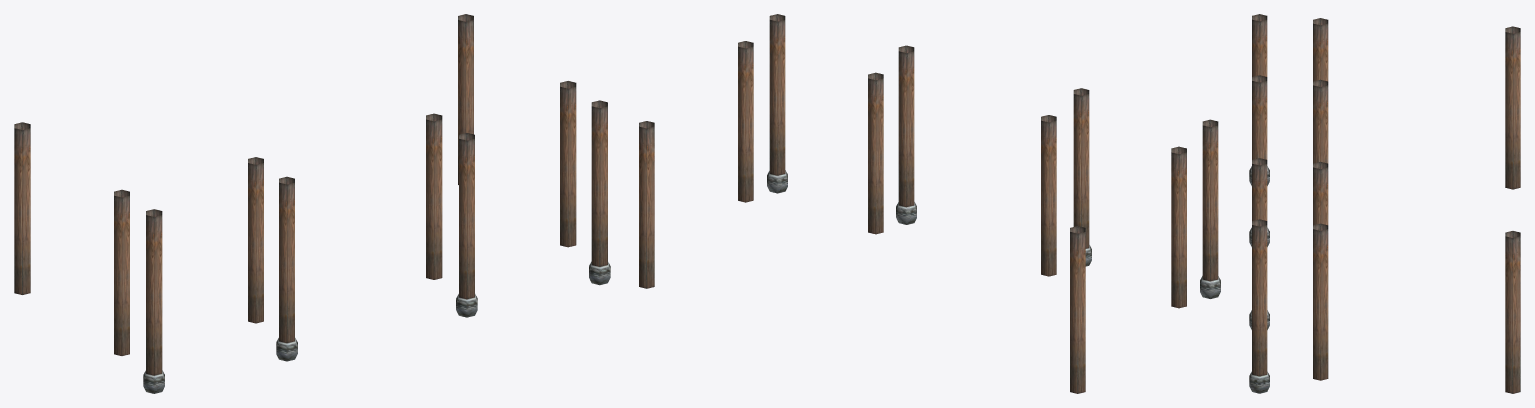
3 renders of one model, left to right at view 1: azimuth 30°, elevation 25°; view 2: azimuth 150°, elevation 25°; view 3: azimuth 270°, elevation 25°, orthographic. The views are drawn at different scales.
Visible parts, largest first — view 1: 对象016, 对象005; view 2: 对象016, 对象005; view 3: 对象016, 对象005.
Part boxes in pixels (box(x1,y1,x2,y2)): 对象016: box(14, 14, 607, 375); 对象005: box(143, 261, 610, 393); 对象016: box(639, 14, 1218, 393); 对象005: box(767, 170, 1220, 298); 对象016: box(1252, 14, 1520, 393); 对象005: box(1249, 166, 1269, 393).
Size of the model in its own units: 1294 by 469 by 689.
